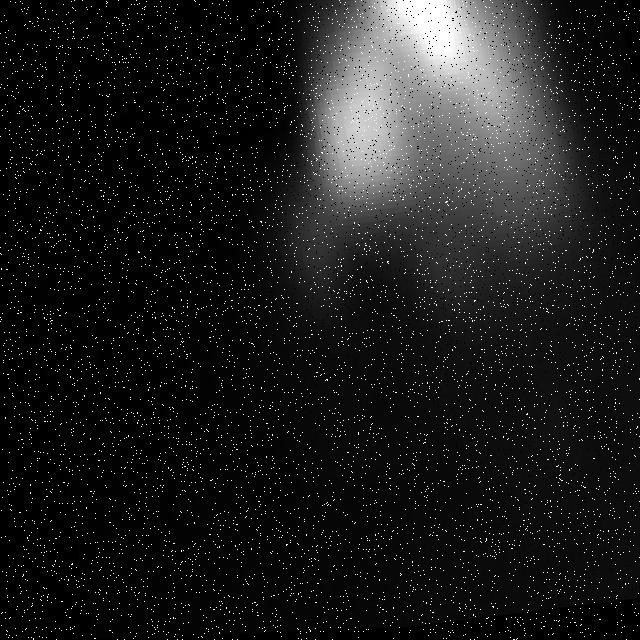person: (269, 1, 606, 354)
